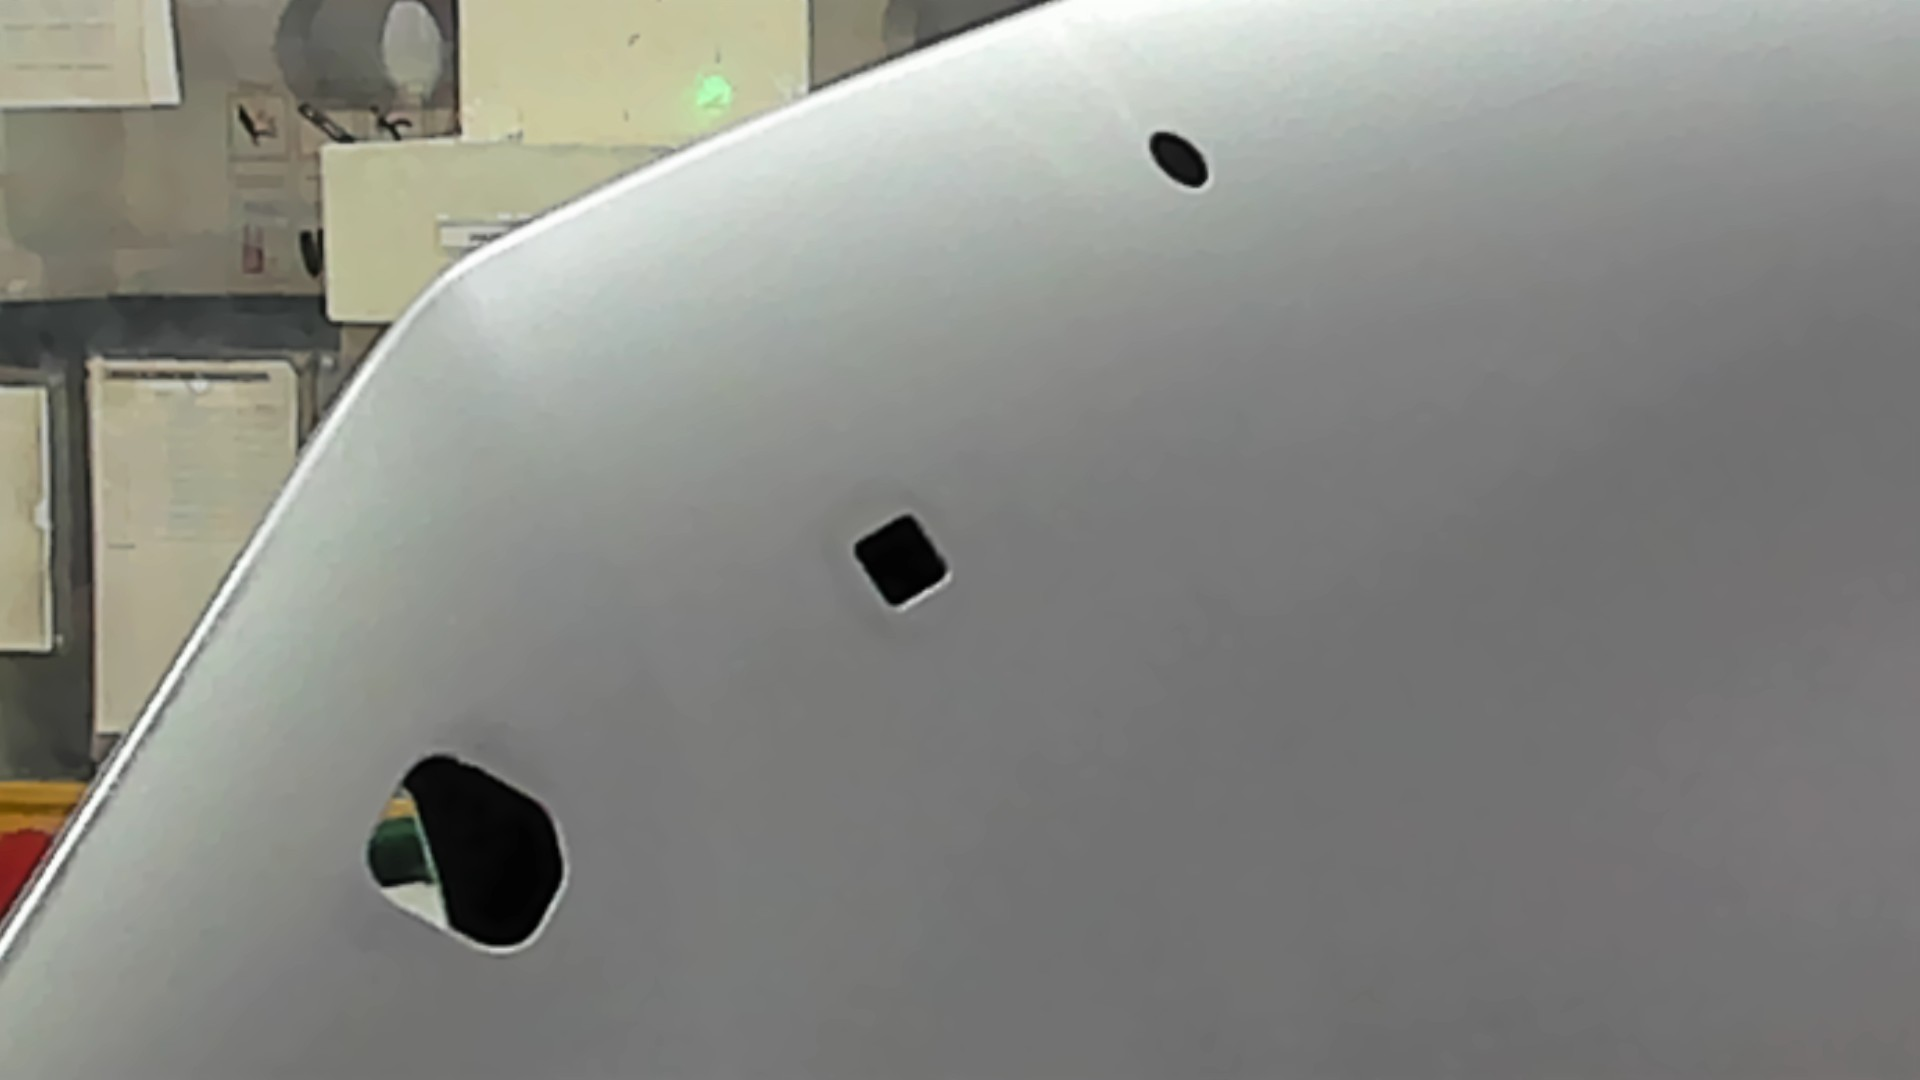chico: (1134, 117, 1221, 200)
grande: (348, 752, 580, 977)
mediano: (822, 505, 977, 626)
